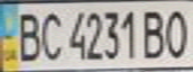1: (118, 7, 142, 60)
2: (84, 7, 106, 61)
3: (103, 7, 124, 61)
4: (63, 7, 87, 61)
B: (9, 7, 45, 63), (139, 6, 169, 60)
C: (36, 7, 66, 62)
O: (160, 6, 193, 60)
